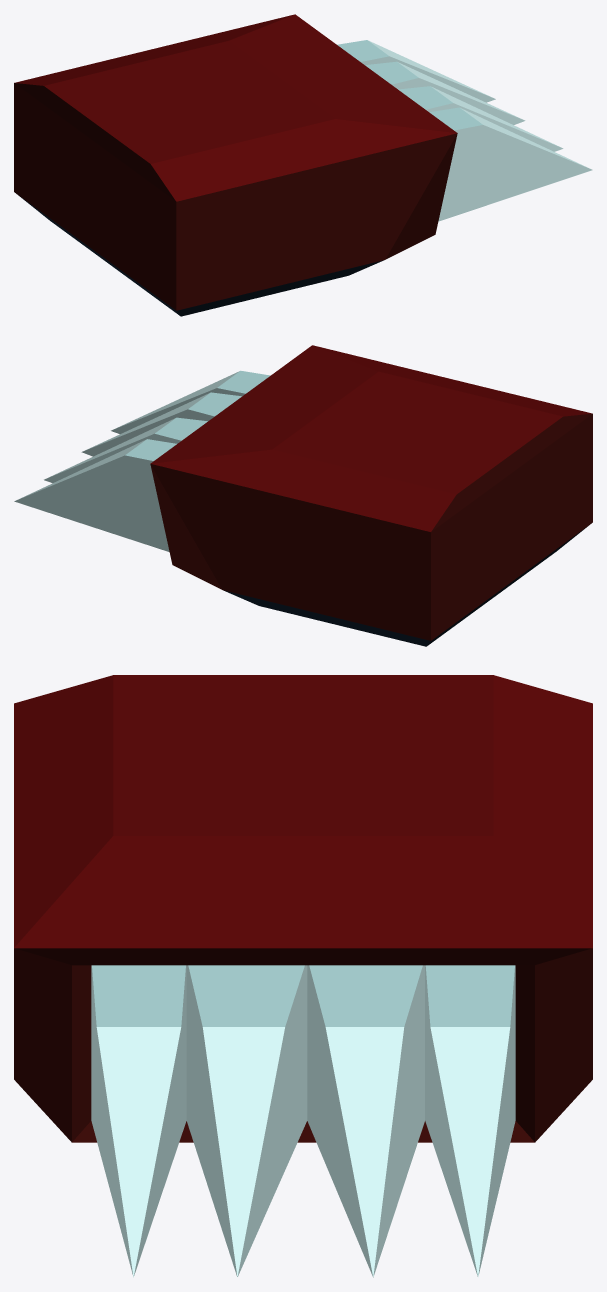
Rendered from bearkin_claw.glb.
The picture shows the model from 3 angles, top to bottom: view 1: azimuth 30°, elevation 25°; view 2: azimuth 150°, elevation 25°; view 3: azimuth 270°, elevation 25°; orthographic projection. The views are drawn at different scales.
Visible parts, largest first — view 1: Cube; view 2: Cube; view 3: Cube.
Boxes of the visible parts, left/top/right/bottom form: Cube: left=14, top=14, right=592, bottom=316; Cube: left=14, top=345, right=592, bottom=646; Cube: left=14, top=675, right=592, bottom=1277.
Bounding box in the file's own units: 0.8993 × 0.2834 × 0.562.
Materials: 1 (1 with a texture image).
